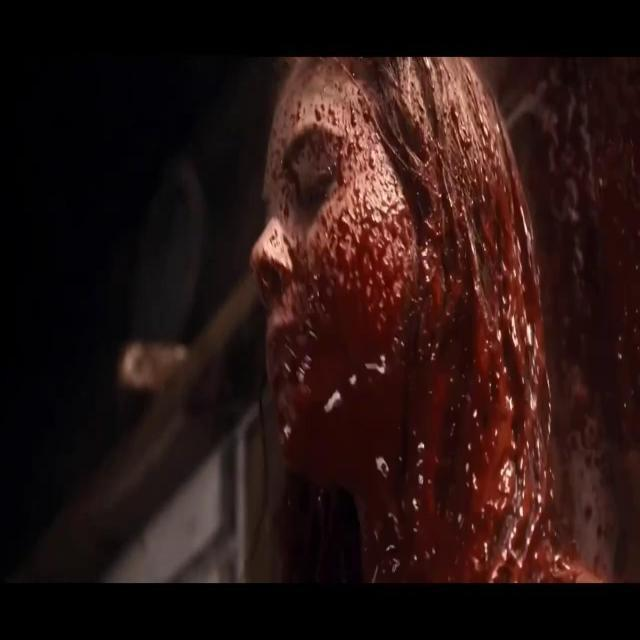flood: (302, 217, 433, 586)
